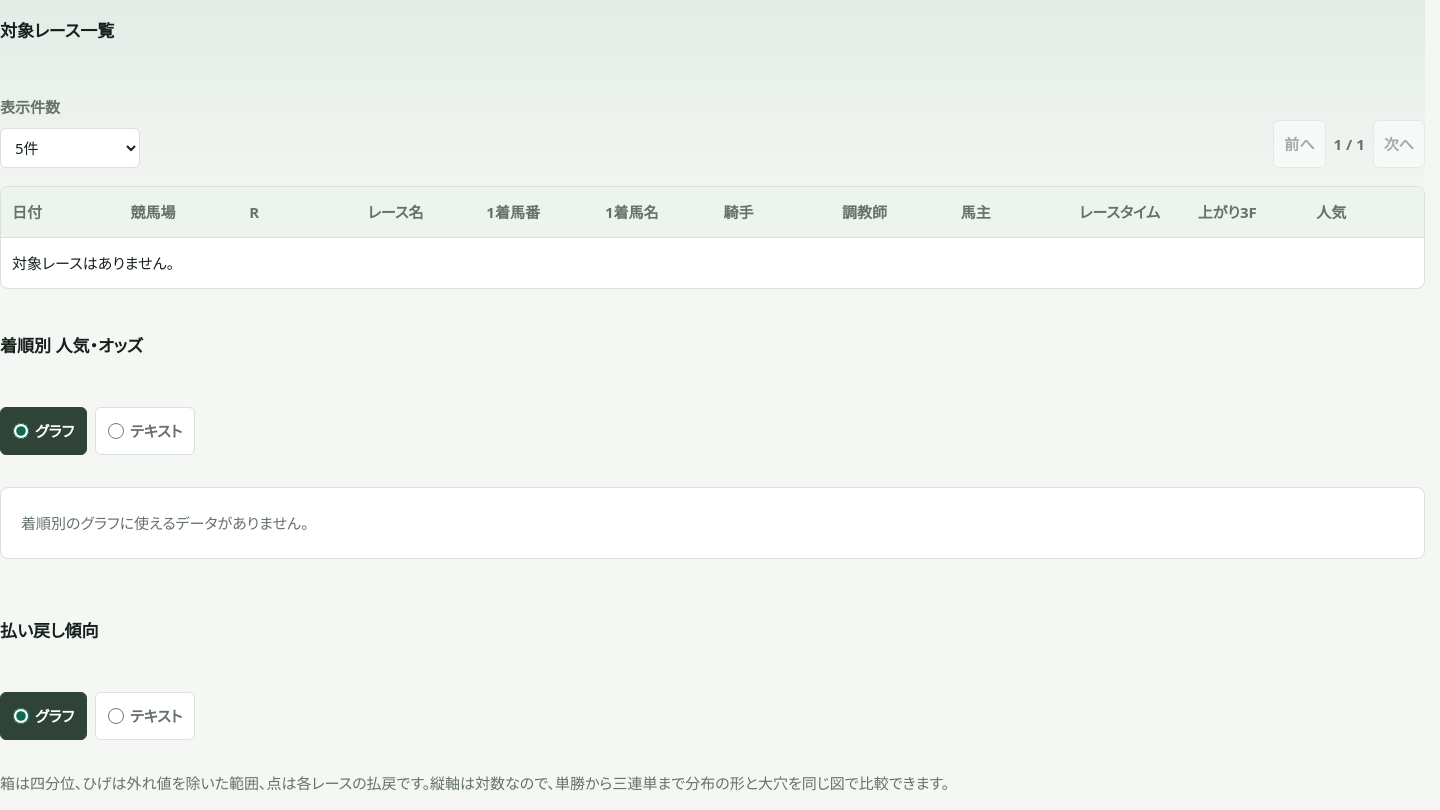
Test: switches the payout section to the table when テキスト is checked
This screenshot has width=1440, height=810.
Click the radio button labelled "テキスト" below "払い戻し傾向".
click(116, 716)  # box [108, 708, 124, 724]
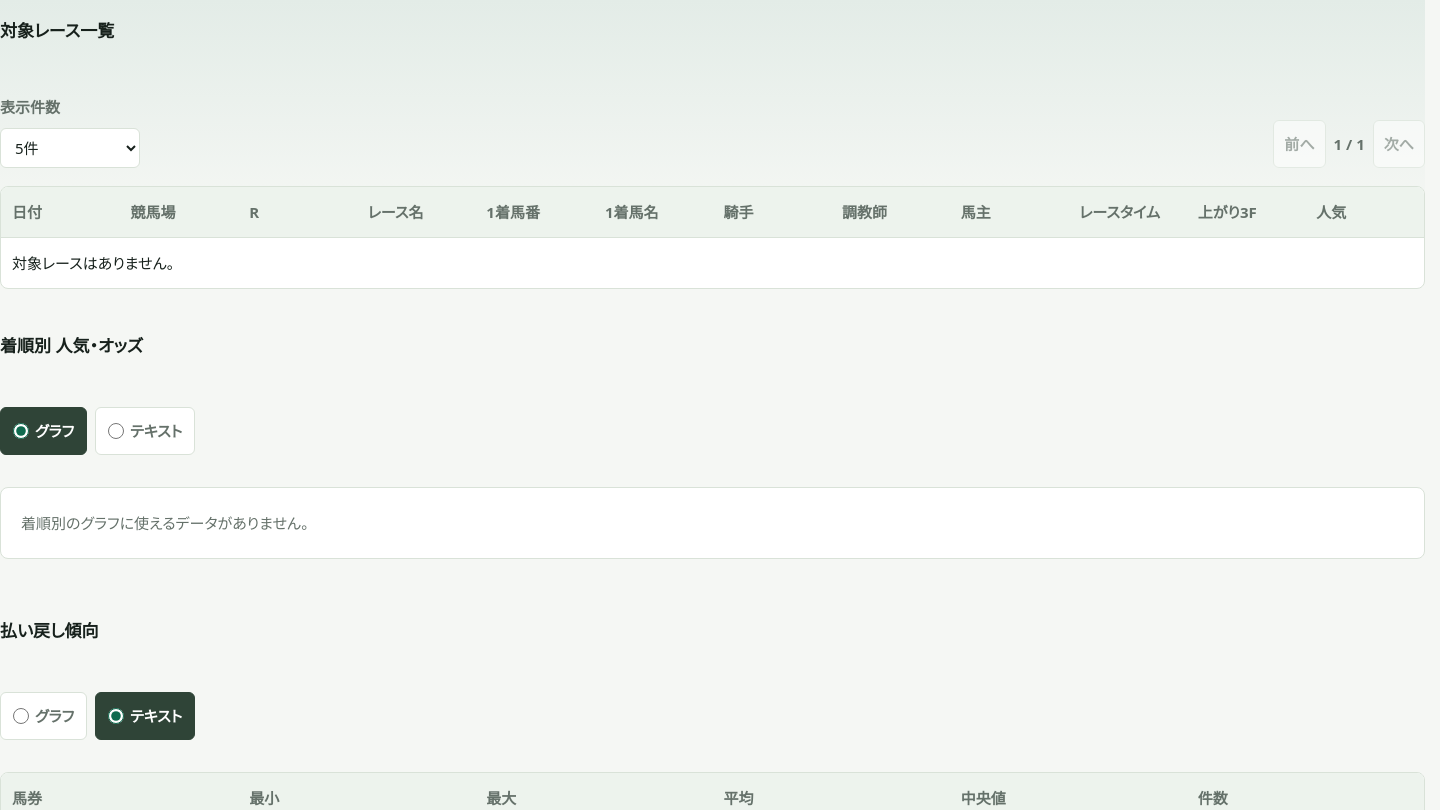
Check: the radio button labelled "テキスト" below "払い戻し傾向" is checked, box [108, 708, 124, 724]
Check: the radio button labelled "グラフ" below "払い戻し傾向" is not checked
Click the radio button labelled "グラフ" below "払い戻し傾向".
click(21, 716)  # box [13, 708, 29, 724]
(page scrolled)
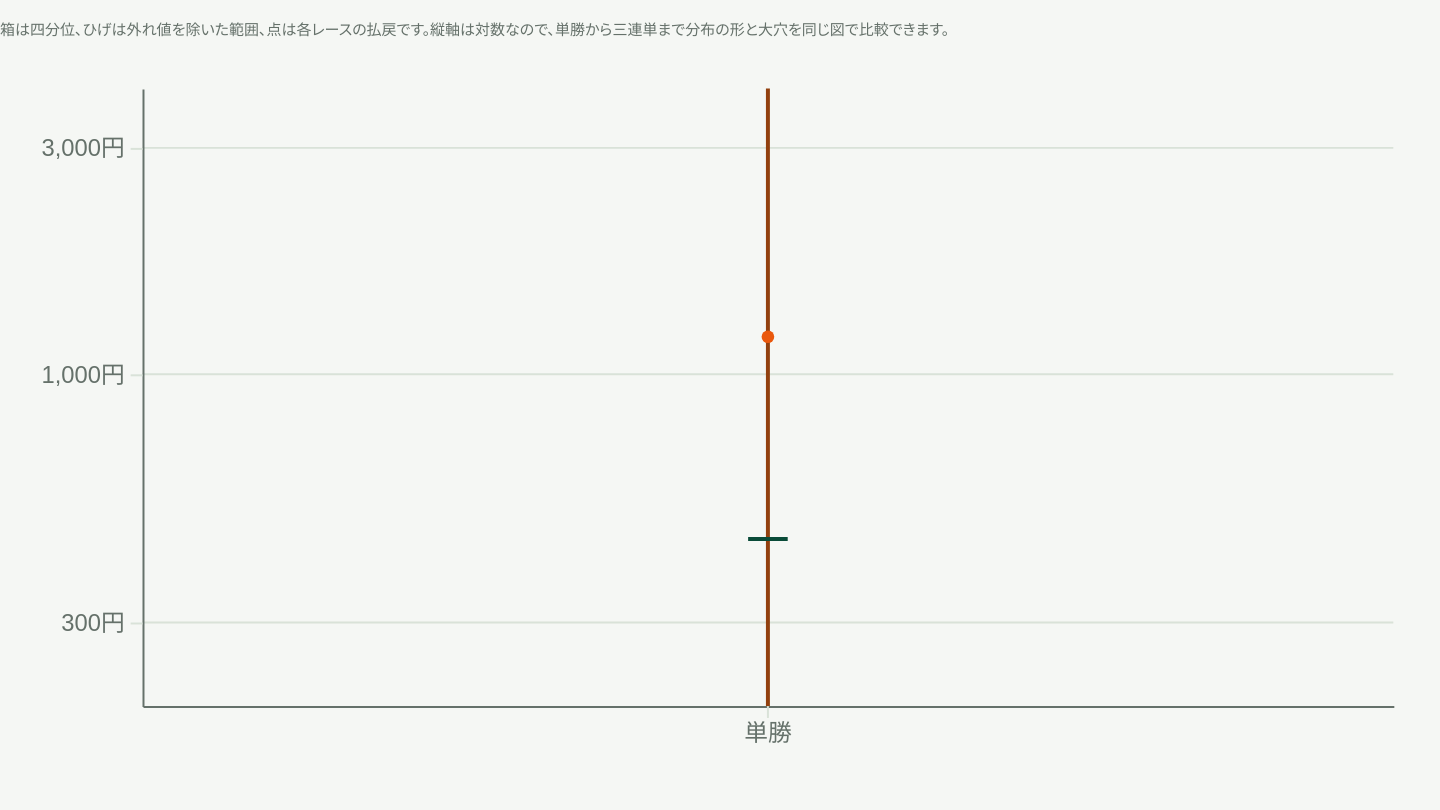
Check: the element named "払い戻し傾向グラフ" is shown
